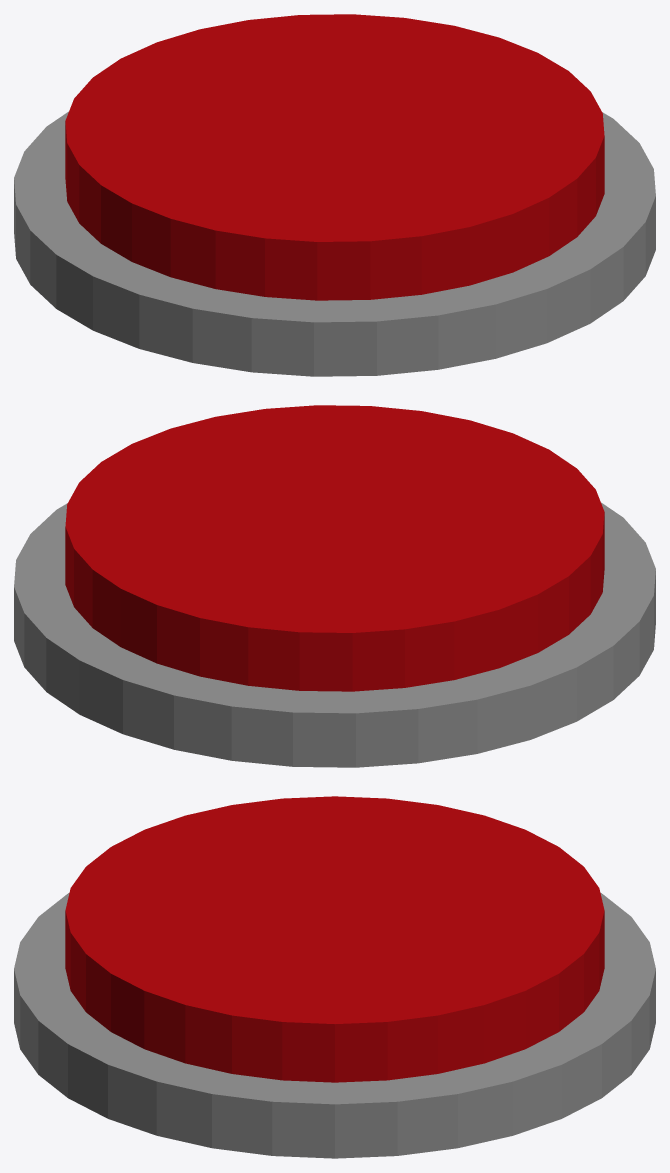
Rendered from button.fbx.
3 views of the same model, one above another, from view 1: azimuth 30°, elevation 25°; view 2: azimuth 150°, elevation 25°; view 3: azimuth 270°, elevation 25° (orthographic).
Parts seen in each view (by area): view 1: top, bottom; view 2: top, bottom; view 3: top, bottom.
Boxes of the visible parts, <box> form: top: <box>65,14,604,300</box>; bottom: <box>14,111,655,376</box>; top: <box>65,405,604,691</box>; bottom: <box>14,502,655,767</box>; top: <box>65,796,604,1082</box>; bottom: <box>14,892,655,1158</box>.
Size of the model in its own units: 200 by 38.74 by 200.
